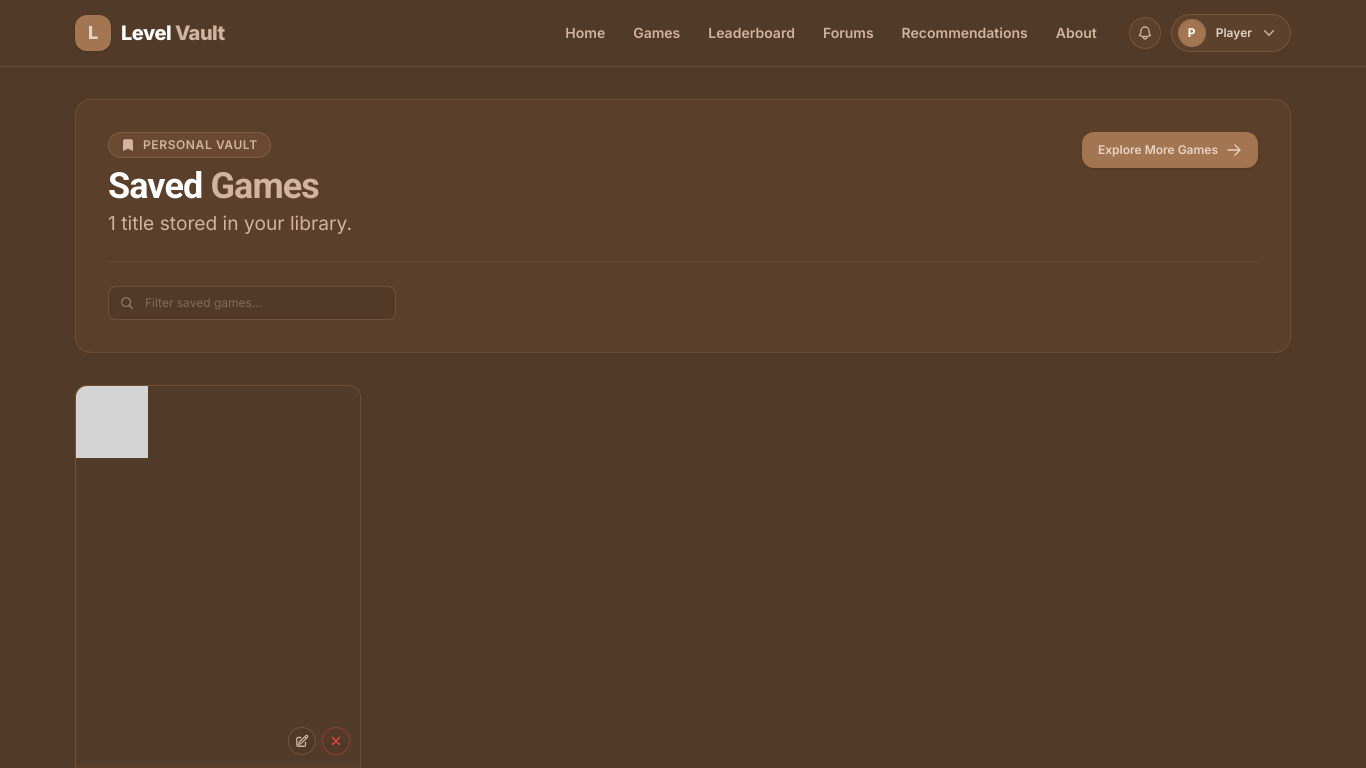
Scenario: FavoritesPage › Review modal › saves a new review with the entered fields
Click the button titled "Write a review".
click(302, 741)  # box [288,727,316,755]
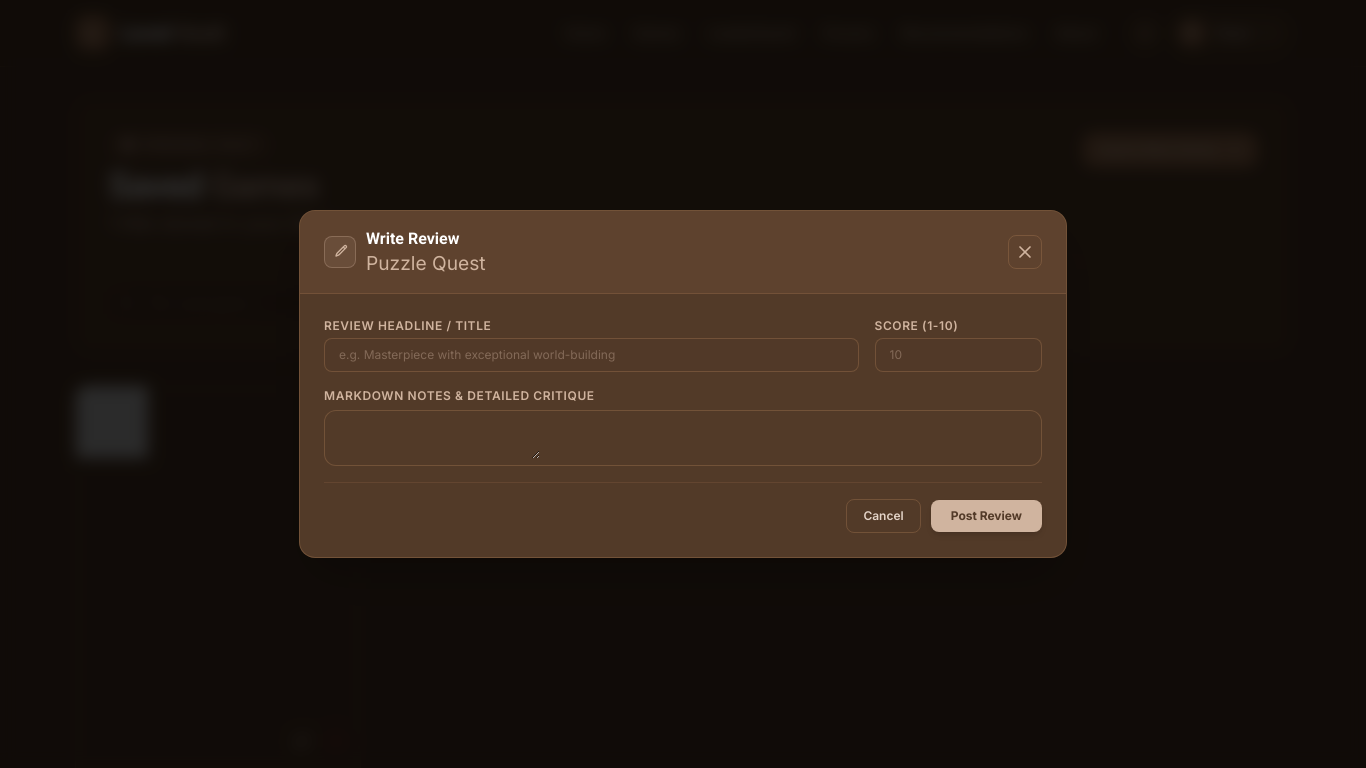
Type "Pretty fun" into the field with placeholder "e.g. Masterpiece with exceptional world-building".
click(591, 355); type("Pretty fun")  # box [324,338,858,372]
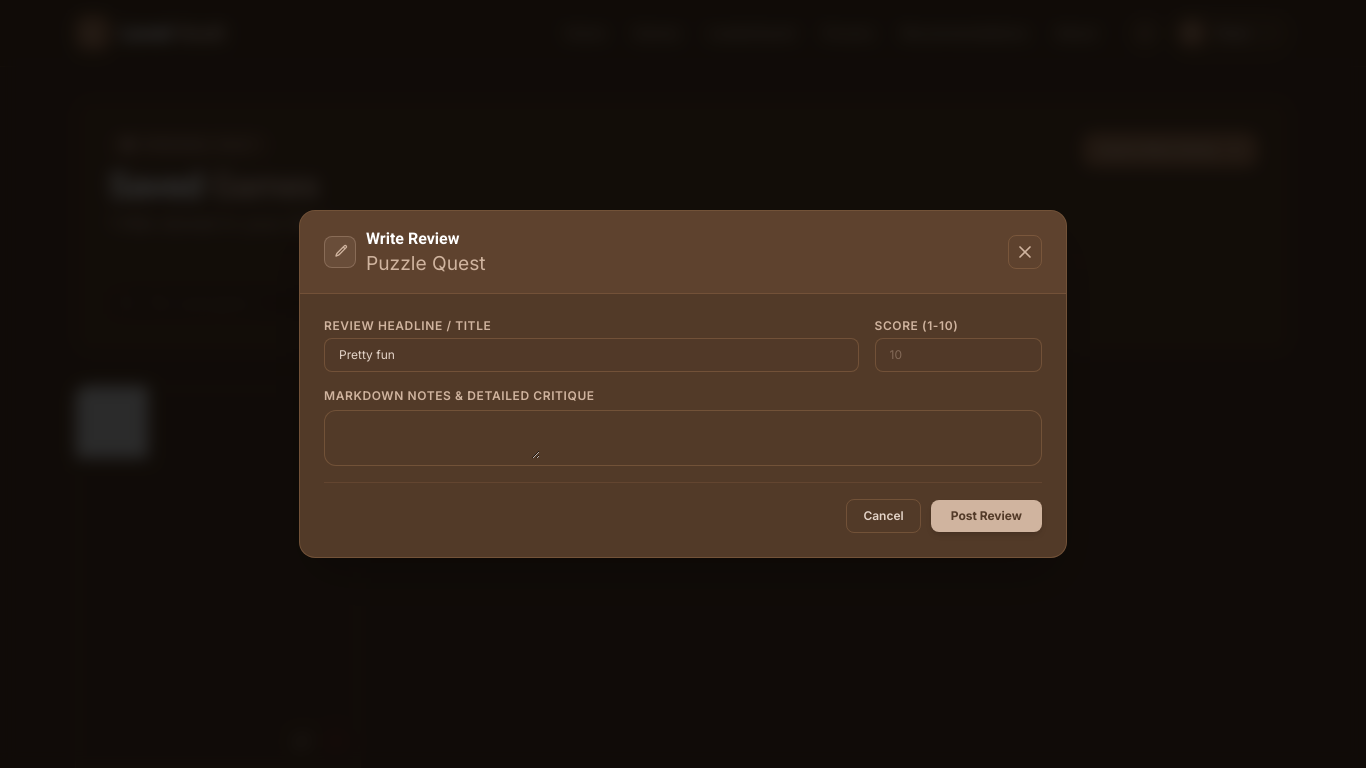
Type "7" into the number field with placeholder "10".
click(958, 355); type("7")  # box [874,338,1042,372]
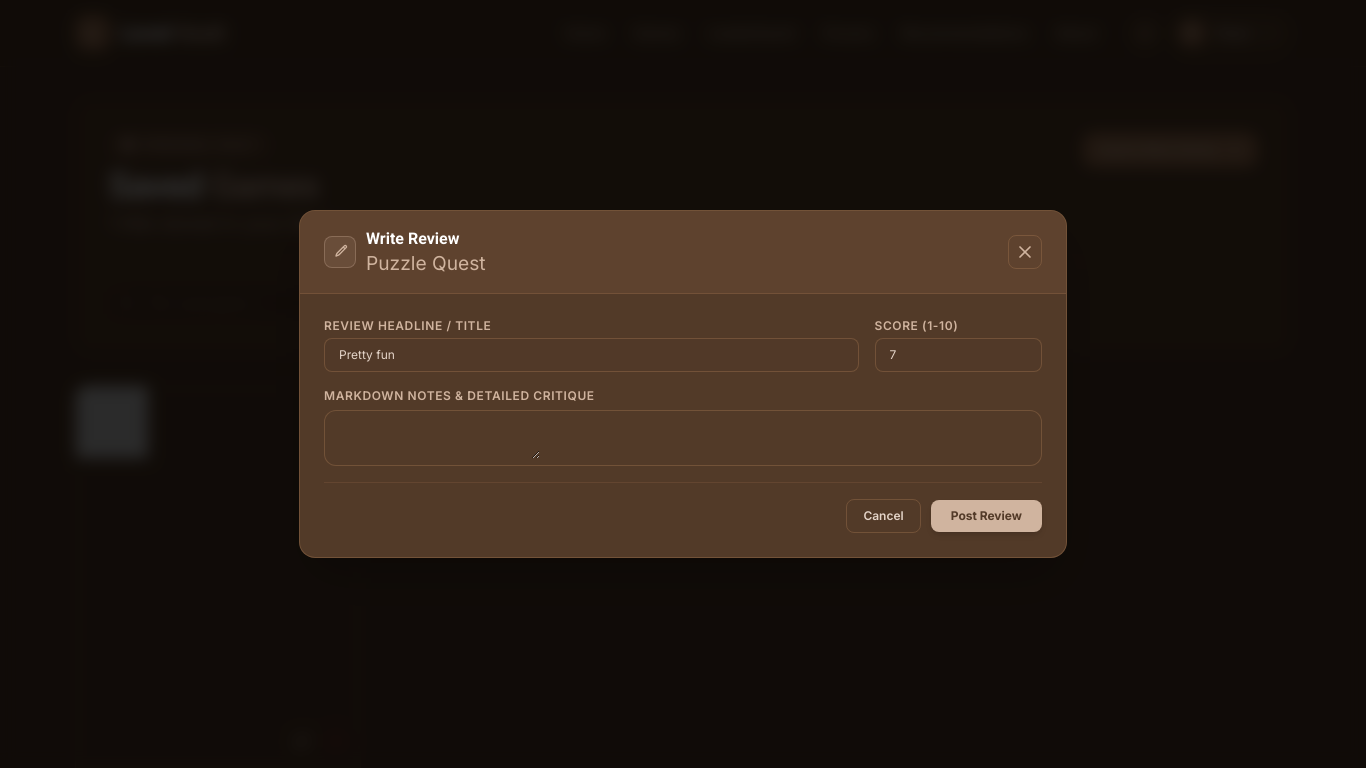
Type "Body text" into the text box with test id "md-editor".
click(432, 435); type("Body text")  # box [325,411,540,459]
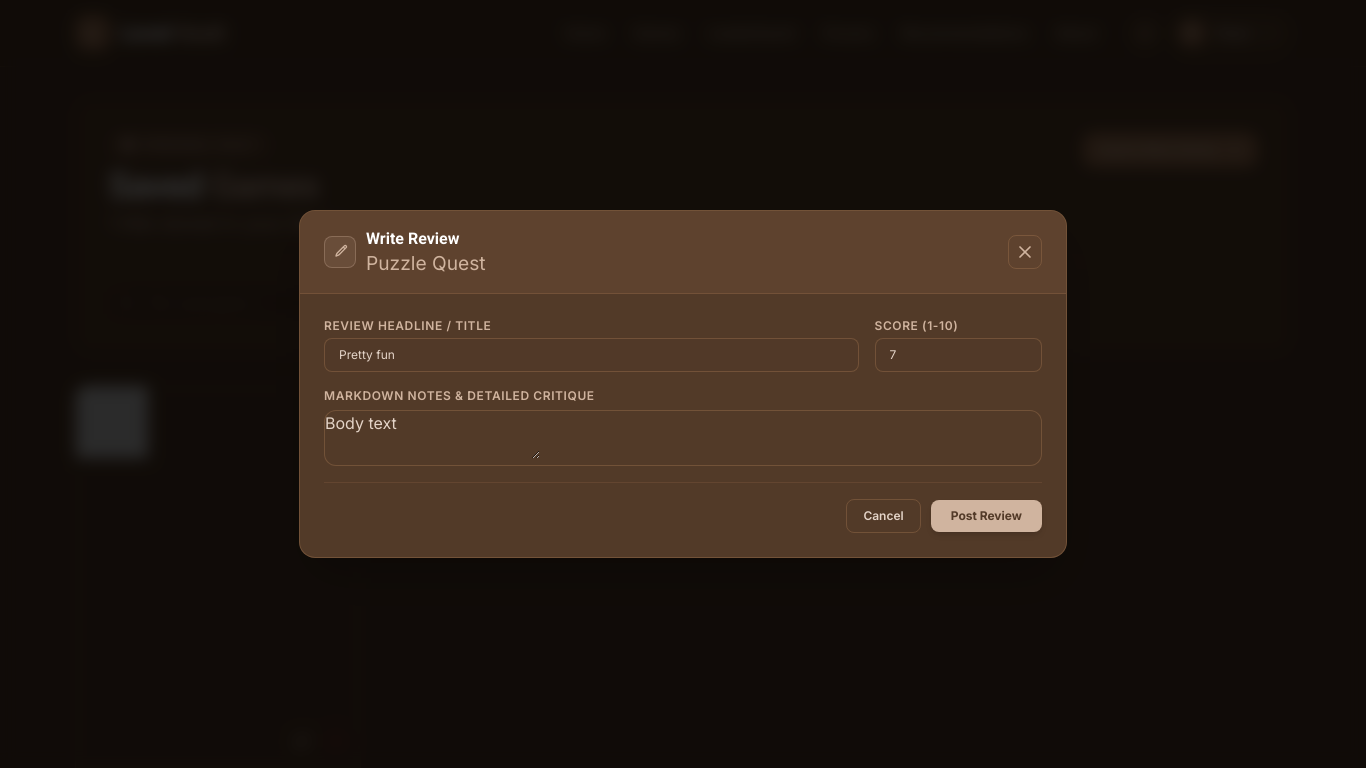
Click the button "Post Review".
click(986, 516)  # box [931,500,1042,532]
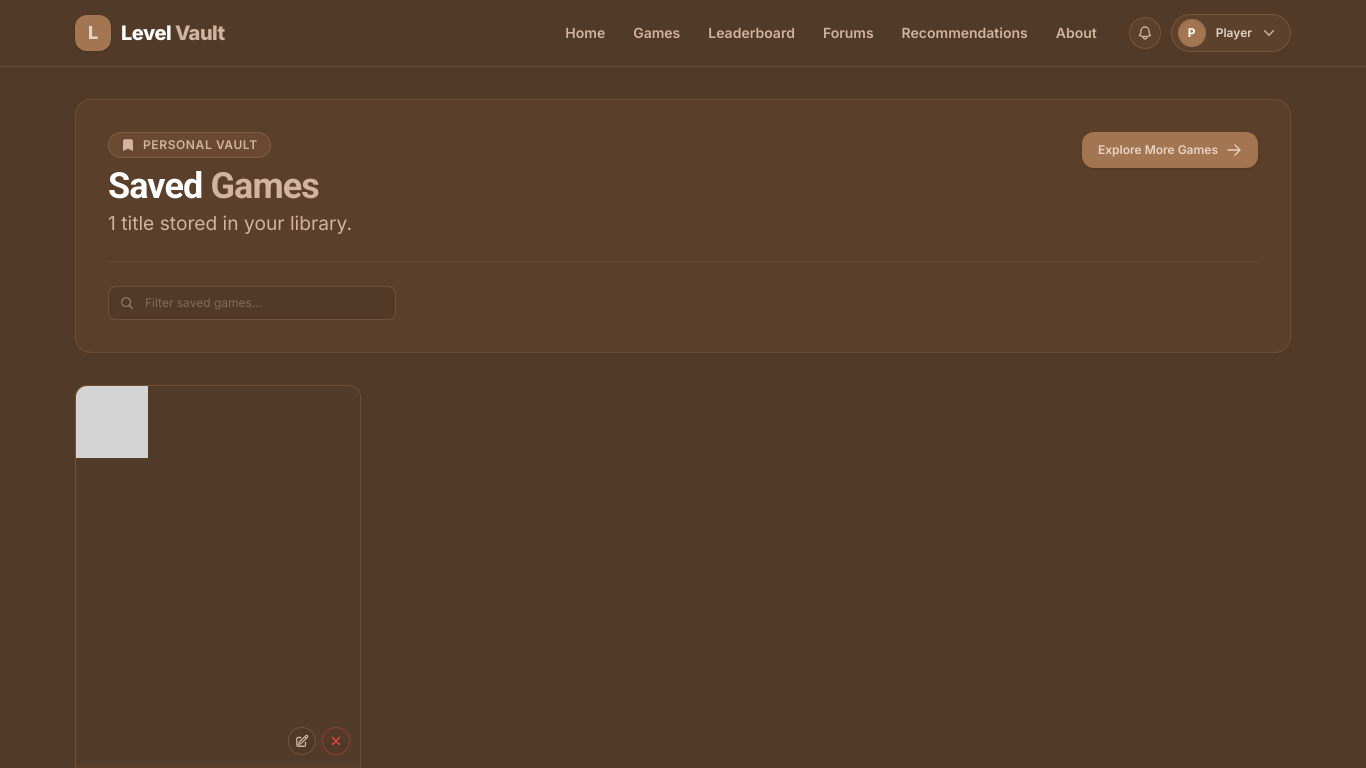
Check: the heading "Write Review" is gone
